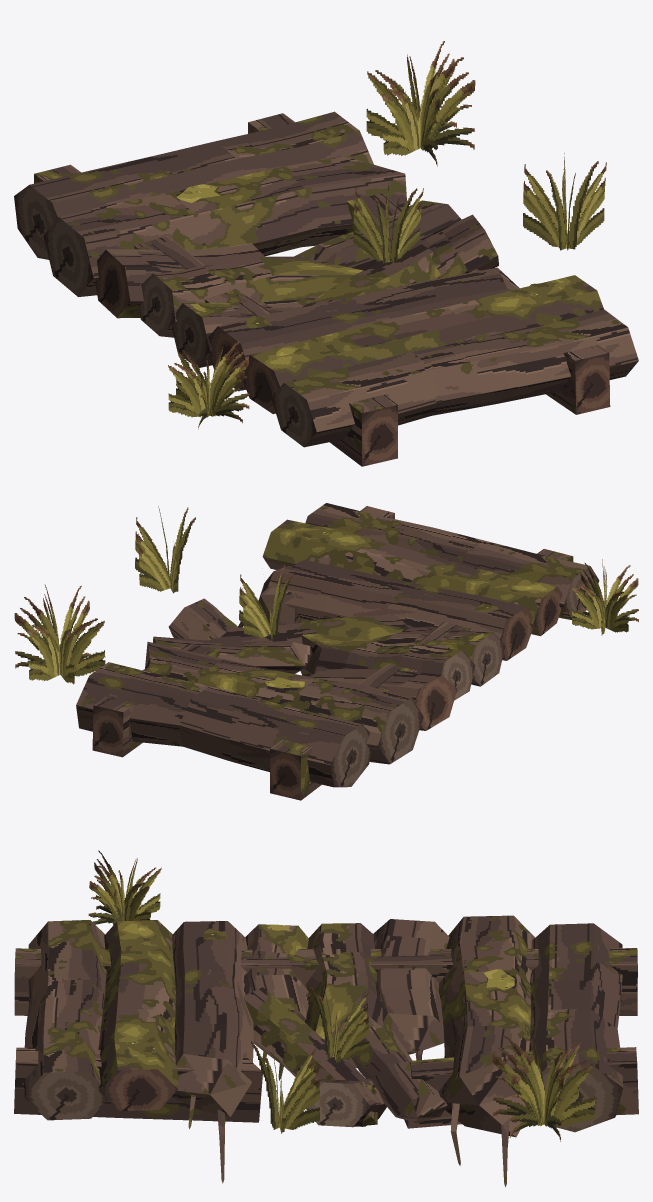
File: SM_SW13_CorduroyHole.fbx
3 renders of one model, top to bottom at view 1: azimuth 30°, elevation 25°; view 2: azimuth 150°, elevation 25°; view 3: azimuth 270°, elevation 25°, orthographic. The views are drawn at different scales.
Visible parts, largest first — view 1: SW13d_Bark, SW13d_Plants, SW13d_Props, SW13d_BarkMossy, SW13d_Moss; view 2: SW13d_Bark, SW13d_Props, SW13d_BarkMossy, SW13d_Plants, SW13d_Moss; view 3: SW13d_Bark, SW13d_BarkMossy, SW13d_Plants, SW13d_Props, SW13d_Moss.
Boxes of the visible parts, x1,y1,x2,y2 form: SW13d_Bark: (29,111,638,466); SW13d_Plants: (168,41,606,429); SW13d_Props: (14,185,610,466); SW13d_BarkMossy: (251,239,603,413); SW13d_Moss: (176,184,563,356); SW13d_Bark: (76,503,589,800); SW13d_Props: (92,566,599,800); SW13d_BarkMossy: (209,519,556,643); SW13d_Plants: (14,506,638,684); SW13d_Moss: (264,527,535,688); SW13d_Bark: (14,915,638,1186); SW13d_BarkMossy: (98,920,377,1126); SW13d_Plants: (88,850,595,1141); SW13d_Props: (24,1066,623,1132); SW13d_Moss: (126,924,514,1057).
Bounding box in the file's own units: 3.63 × 1.28 × 4.02.
